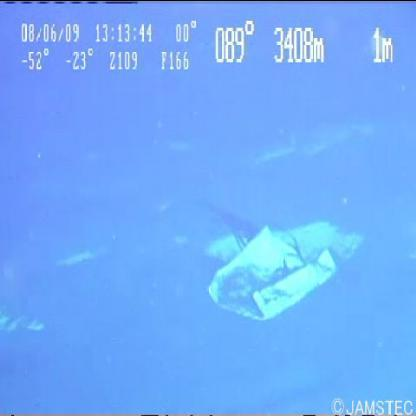Rác: (196, 197, 367, 334)
